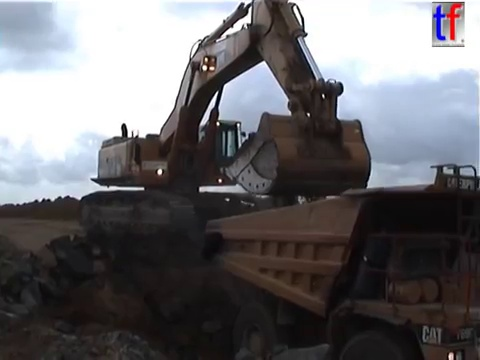excavator: (74, 1, 376, 241)
truck: (201, 161, 480, 360)
wheel loader: (271, 170, 332, 217)
